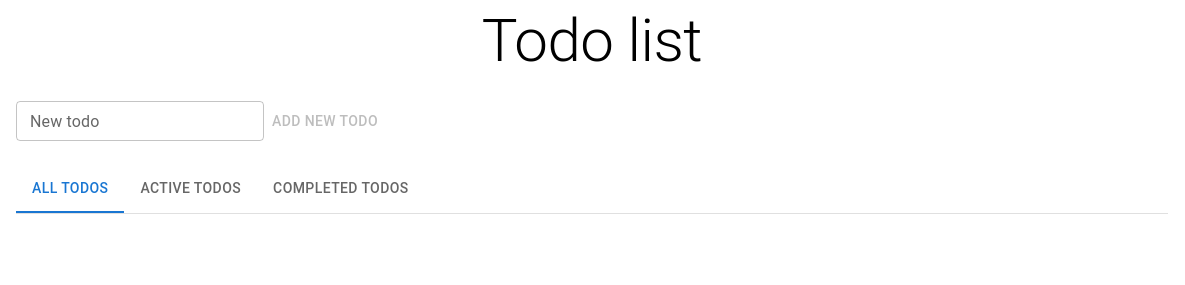
Test case: add new todo
This screenshot has width=1185, height=285.
Expected: the button with test id "button" is disabled, 264,101 -> 386,141
Type "first todo" into the field with test id "input" at point(140, 121), box 16,101 -> 264,141
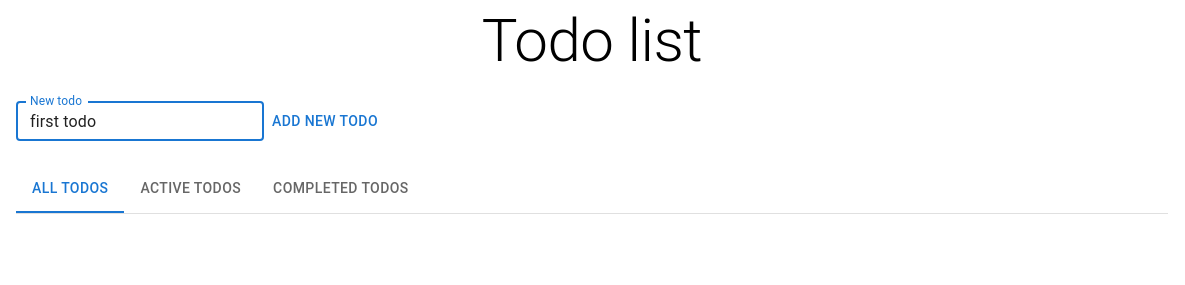
Result: the button with test id "button" does not have class "Mui-disabled"
Click the button with test id "button" at point(325, 121), box 264,101 -> 386,141
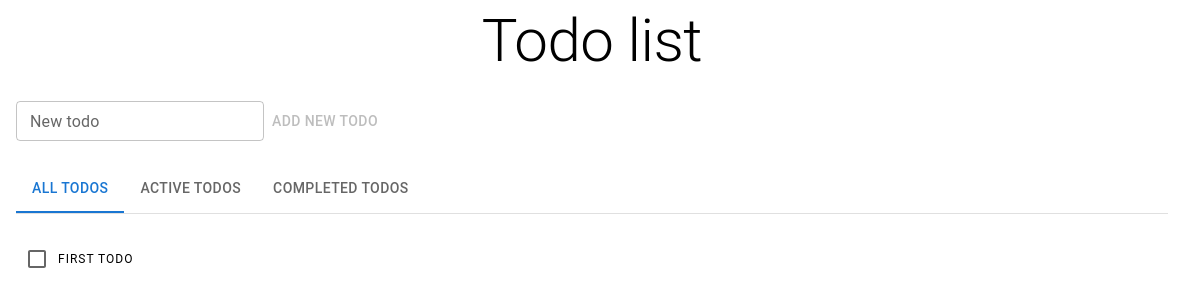
Result: the text "first todo" is shown at 58,252 -> 134,266
